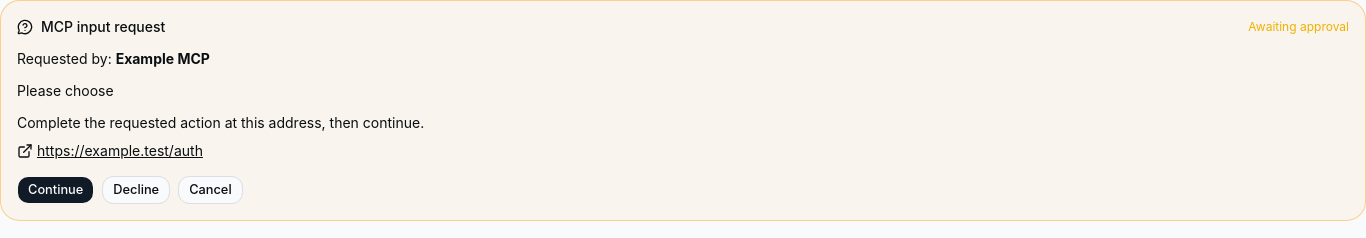
Test: retains this browser’s choice when resolution beats the HTTP submitted acknowledgement
Click the button "Continue": click(56, 190) x1=17 y1=176 x2=94 y2=204
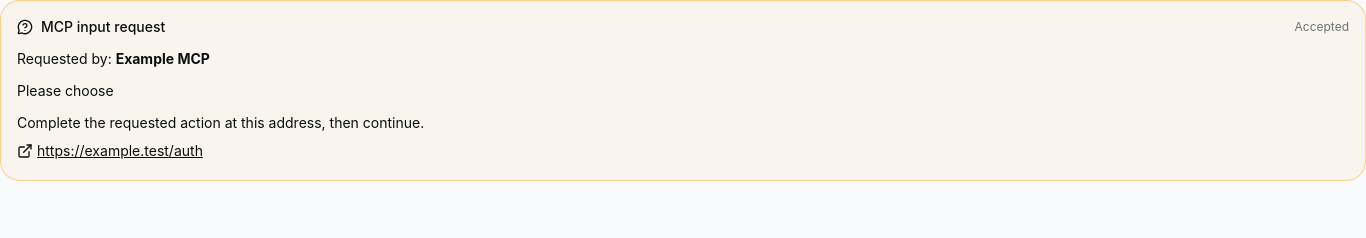
Result: the text "Accepted" is shown at x1=1294 y1=19 x2=1349 y2=35
